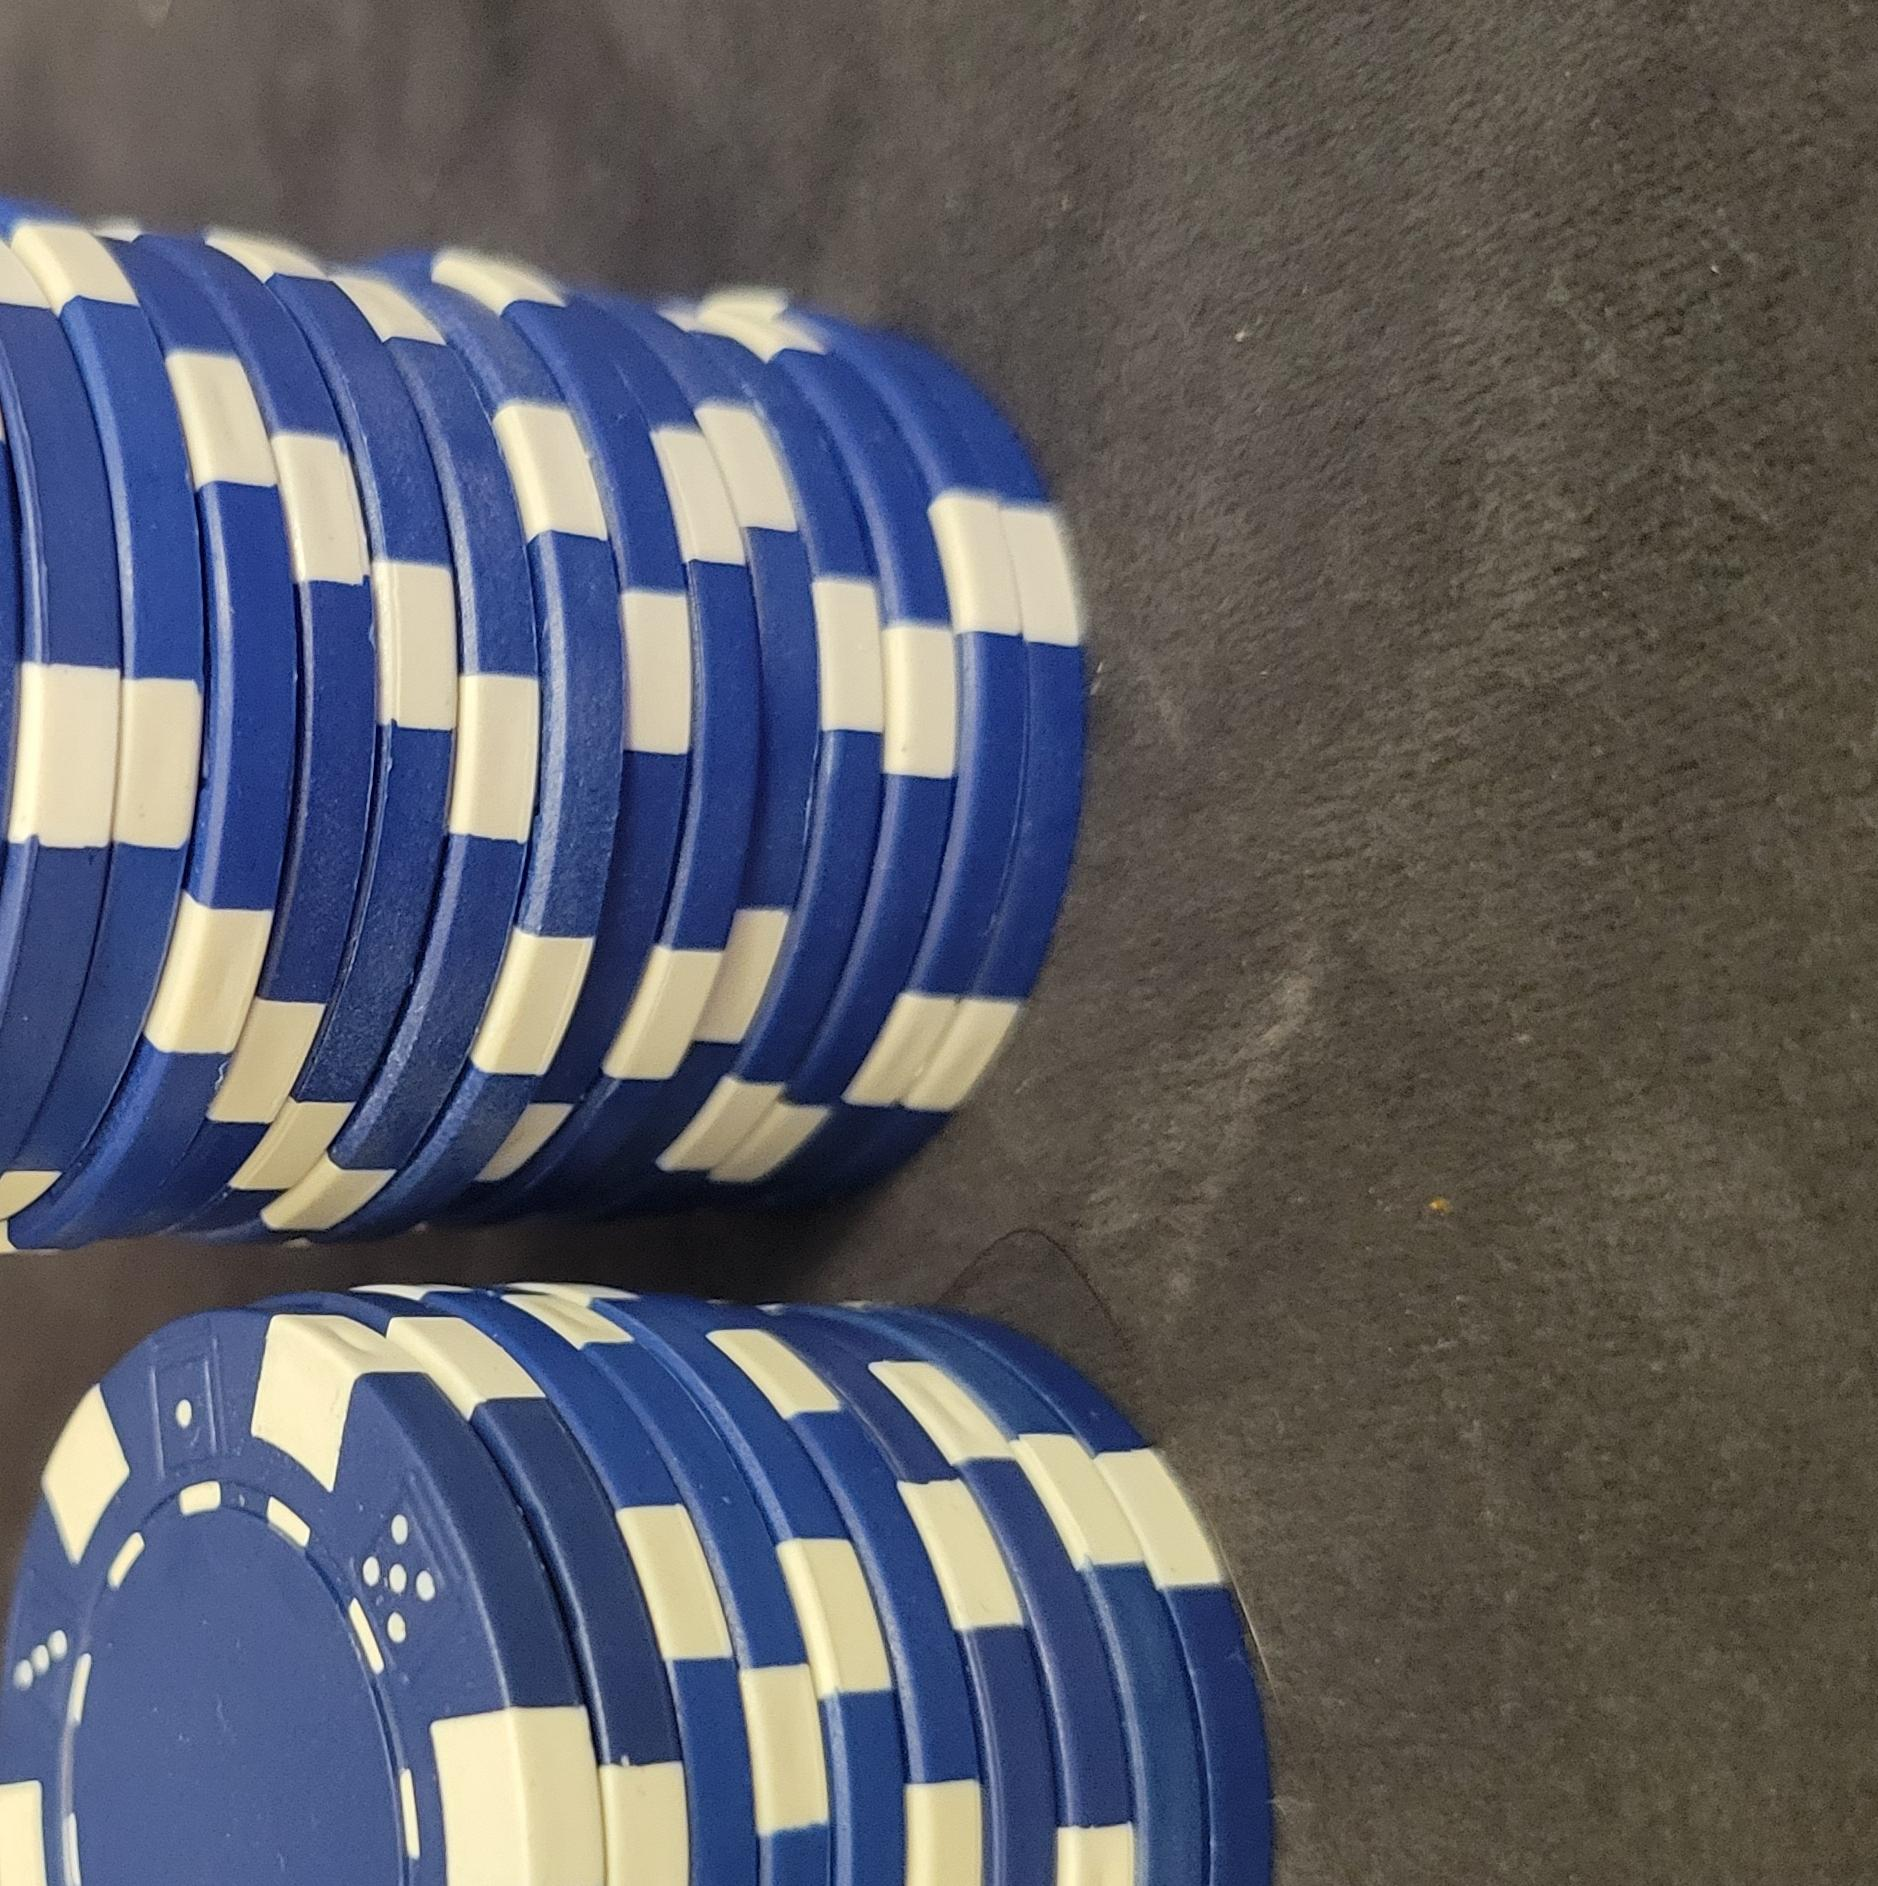Chip: (2, 107, 961, 1886)
